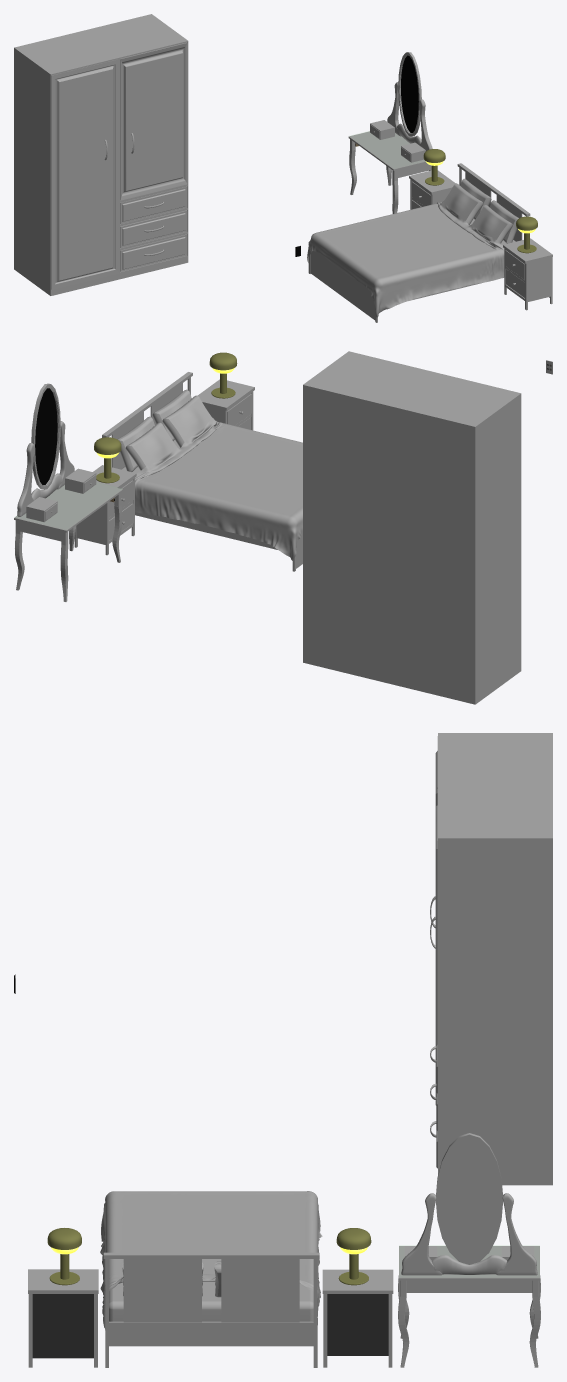
File: mainbedroom.fbx
3 views of the same model, one above another, from view 1: azimuth 30°, elevation 25°; view 2: azimuth 150°, elevation 25°; view 3: azimuth 270°, elevation 25° (orthographic). The views are drawn at different scales.
Visible parts, largest first — view 1: Cell, DoorPanelL, Quilt, DoorPanelR, Bed_Foot_B, Mirror, DrawerFront2, DrawerFront3, DrawerFront1, Desk_Top, Drawer_Top (×2), Drawer_Side_R (+6 smaller); view 2: Cell, Quilt, Mirror, Desk_Top, Mirror_Pillor, Pillow4, Pillow2, Leg, Light (×2), Drawer_Top, Bed_Side_B_L, Drawer_Side_L (+8 smaller); view 3: Cell, Quilt, Drawer_Back (×2), Mirror, Bed_Head_B, Bed_Head_Board_L, Bed_Head_Board_R, Mirror_Pillor, Drawer_Top (×2), Mattress, Desk_Back, Bed_Head_Bar (+3 smaller).
Boxes of the visible parts, x1,y1,x2,y2 form: Cell: [14, 14, 188, 295]; DoorPanelL: [51, 59, 119, 289]; Quilt: [307, 201, 504, 317]; DoorPanelR: [120, 42, 187, 200]; Bed_Foot_B: [310, 251, 375, 320]; Mirror: [398, 52, 421, 136]; DrawerFront2: [120, 210, 187, 247]; DrawerFront3: [120, 234, 187, 271]; DrawerFront1: [120, 186, 187, 223]; Desk_Top: [348, 131, 426, 170]; Drawer_Top (×2): [409, 170, 552, 263]; Drawer_Side_R: [528, 257, 550, 301]; Cell: [303, 351, 521, 704]; Quilt: [135, 418, 302, 560]; Mirror: [31, 383, 60, 489]; Desk_Top: [14, 483, 122, 532]; Mirror_Pillor: [17, 421, 74, 516]; Pillow4: [162, 395, 212, 447]; Pillow2: [125, 422, 177, 470]; Leg: [15, 505, 122, 601]; Light (×2): [94, 352, 237, 458]; Drawer_Top: [197, 379, 254, 410]; Bed_Side_B_L: [135, 512, 277, 549]; Drawer_Side_L: [76, 504, 105, 544]; Cell: [438, 733, 552, 1185]; Quilt: [100, 1191, 322, 1329]; Drawer_Back (×2): [32, 1294, 388, 1358]; Mirror: [436, 1133, 503, 1264]; Bed_Head_B: [107, 1321, 316, 1346]; Bed_Head_Board_L: [221, 1259, 299, 1322]; Bed_Head_Board_R: [123, 1259, 201, 1322]; Mirror_Pillor: [401, 1193, 537, 1275]; Drawer_Top (×2): [28, 1269, 393, 1293]; Mattress: [109, 1281, 313, 1321]; Desk_Back: [406, 1280, 532, 1292]; Bed_Head_Bar: [103, 1252, 319, 1258].
Bounding box in the file's own units: 5.15 × 2.96 × 4.12.
